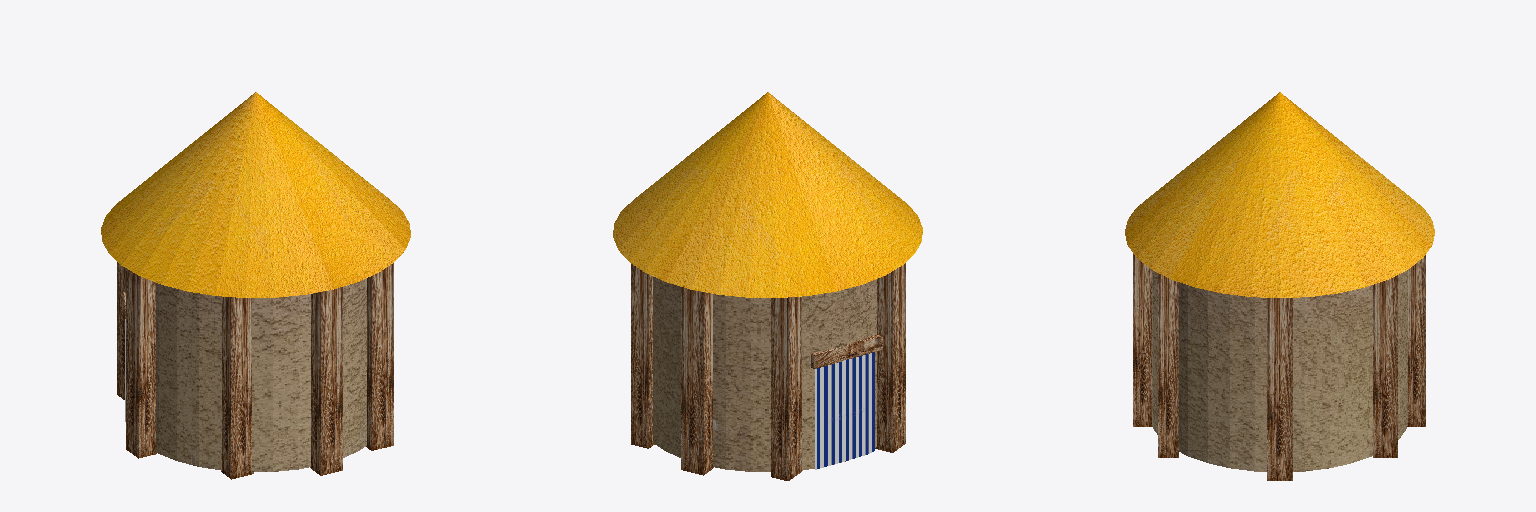
3 renders of one model, left to right at view 1: azimuth 30°, elevation 25°; view 2: azimuth 150°, elevation 25°; view 3: azimuth 270°, elevation 25°, orthographic.
Parts seen in each view (by area): view 1: Cylinder.004_Cylinder.011; view 2: Cylinder.004_Cylinder.011; view 3: Cylinder.004_Cylinder.011.
Boxes of the visible parts, <box> form: Cylinder.004_Cylinder.011: <box>101,92,410,479</box>; Cylinder.004_Cylinder.011: <box>613,92,922,480</box>; Cylinder.004_Cylinder.011: <box>1125,92,1434,480</box>.
Size of the model in its own units: 60 by 69.94 by 60.
11 materials, 4 textured.